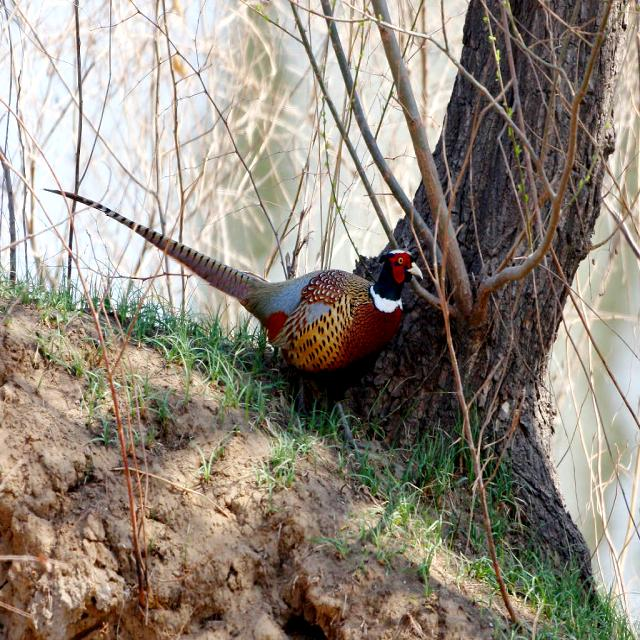Phasianus Colchicus: (40, 188, 264, 303)
